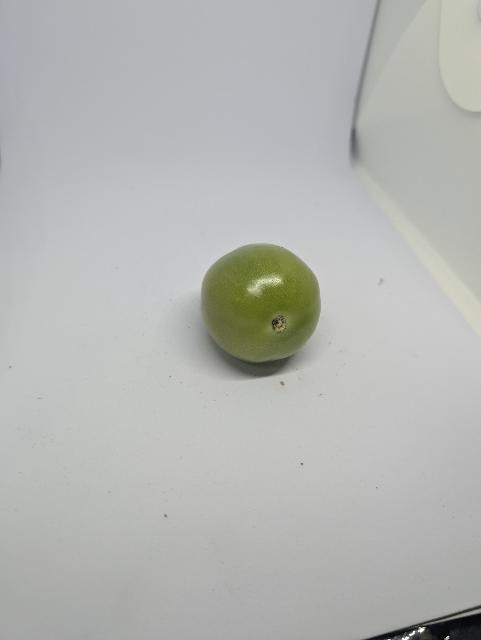green: (185, 221, 344, 374)
